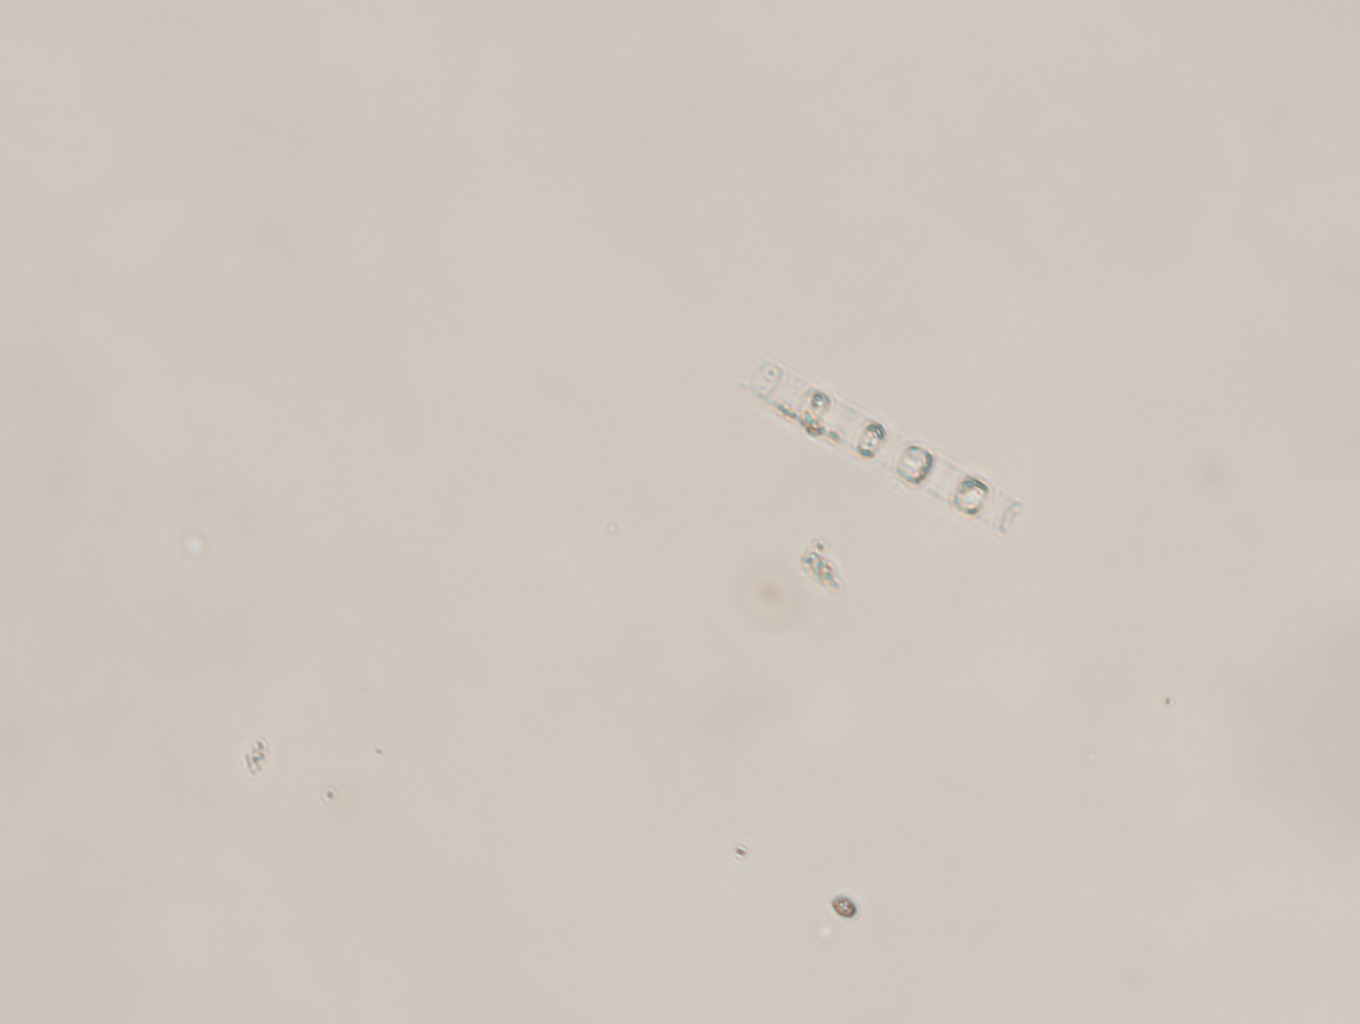skeletonema: (728, 342, 1028, 543)
